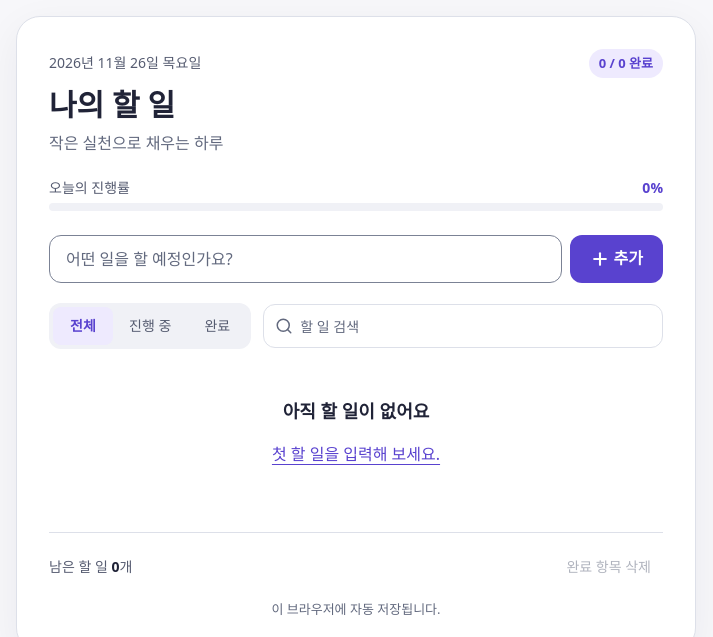
TodoApp 통합 컴포넌트 테스트 › 현재 필터로 인해 새 할 일이 숨겨지면 안내 배너가 뜨고 "전체 보기"를 클릭하면 필터가 초기화된다
'완료' 필터 선택
Click the button "완료".
click(217, 326)  # box [187, 307, 247, 345]
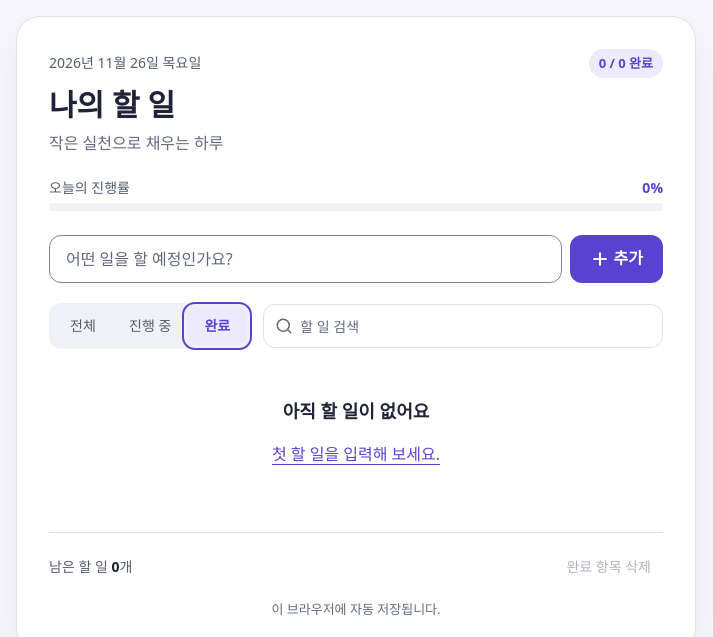
새 할 일 추가 (기본 완료되지 않은 상태)
Type "숨겨진 새 할 일" into the field with placeholder "어떤 일을 할 예정인가요?".
click(305, 259); type("숨겨진 새 할 일")  # box [49, 235, 562, 283]
Then press Enter
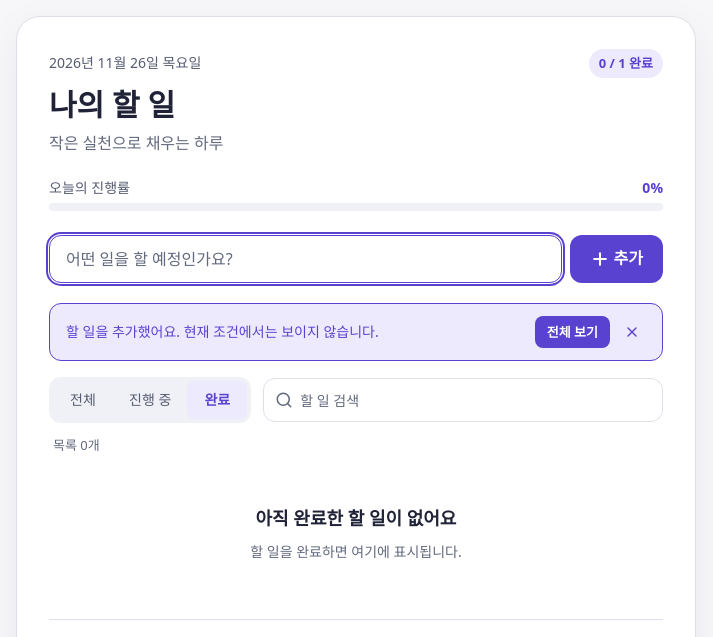
expect the text "할 일을 추가했어요. 현재 조건에서는 보이지 않습니다." is shown: met, box [66, 322, 379, 341]
'전체 보기' 클릭
Click the button "전체 보기".
click(572, 332)  # box [535, 316, 610, 348]
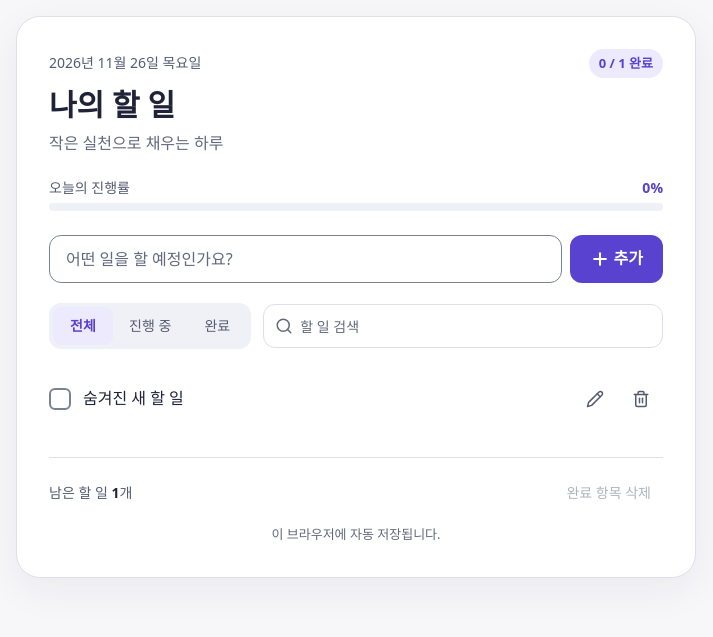
expect the text "숨겨진 새 할 일" is shown: met, box [83, 388, 184, 410]
expect the text "할 일을 추가했어요. 현재 조건에서는 보이지 않습니다." is gone: met
